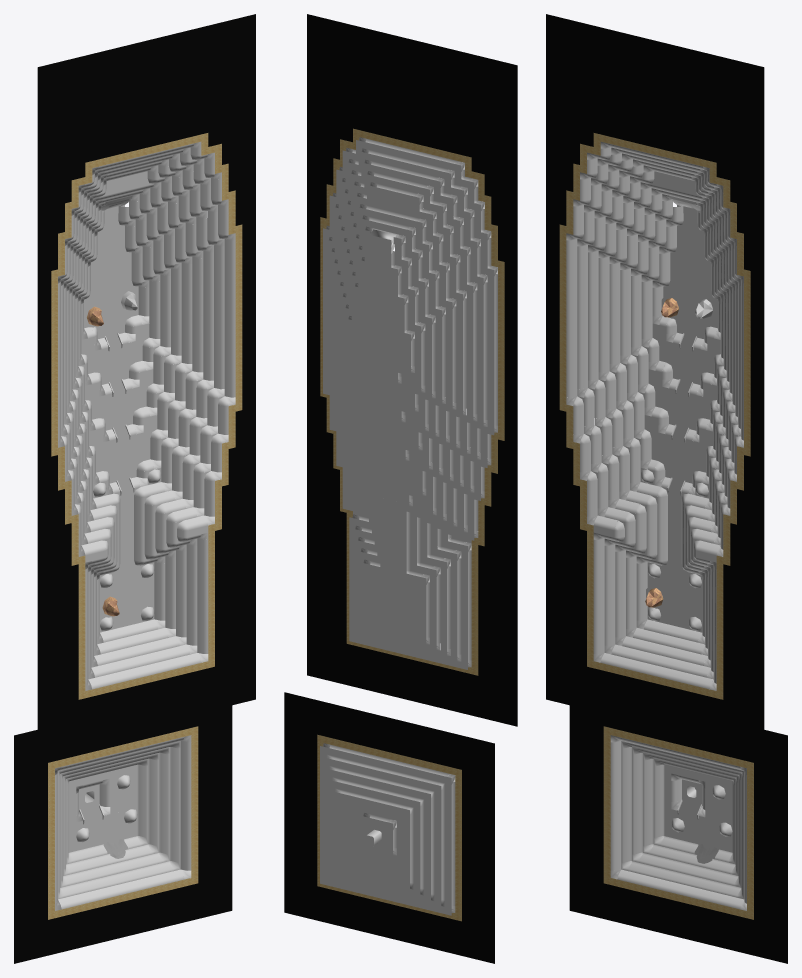
File: Subterranean-Cave-1.obj
3 renders of one model, left to right at view 1: azimuth 30°, elevation 25°; view 2: azimuth 150°, elevation 25°; view 3: azimuth 330°, elevation 25°, orthographic. The views are drawn at different scales.
Visible parts, largest first — view 1: map; view 2: map; view 3: map.
Part boxes in pixels (<box>): map: <box>14,14,255,963</box>; map: <box>284,14,517,963</box>; map: <box>546,14,787,963</box>.
Size of the model in its own units: 32 by 128 by 13.88.
